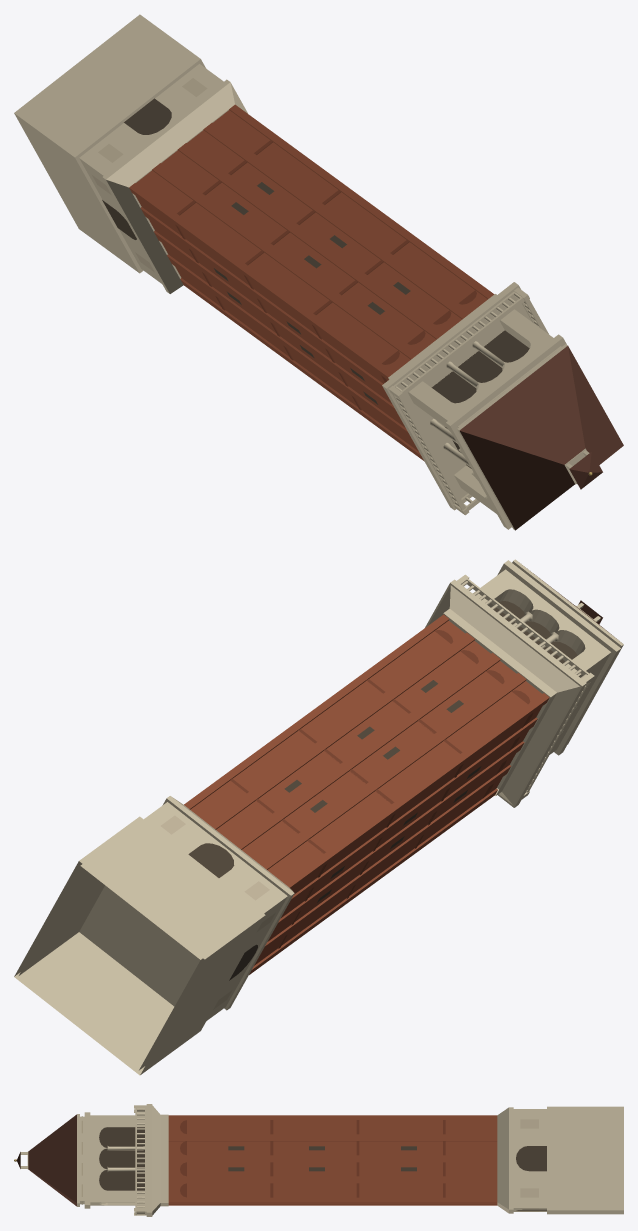
Rendered from torre-veneciana.glb.
3 views of the same model, one above another, from view 1: azimuth 30°, elevation 25°; view 2: azimuth 150°, elevation 25°; view 3: azimuth 270°, elevation 25° (orthographic). The views are drawn at different scales.
Visible parts, largest first — view 1: torre-veneciana; view 2: torre-veneciana; view 3: torre-veneciana.
Boxes of the visible parts, x1,y1,x2,y2 form: torre-veneciana: (14, 14, 623, 530); torre-veneciana: (14, 559, 623, 1075); torre-veneciana: (14, 1104, 623, 1216).
Bounding box in the file's own units: 12.73 × 12.73 × 53.04.
